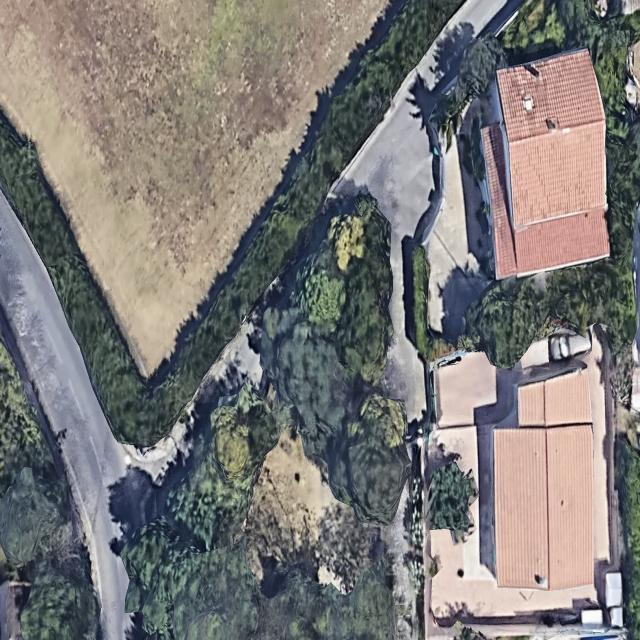maison: (456, 47, 632, 282), (494, 427, 593, 589)
